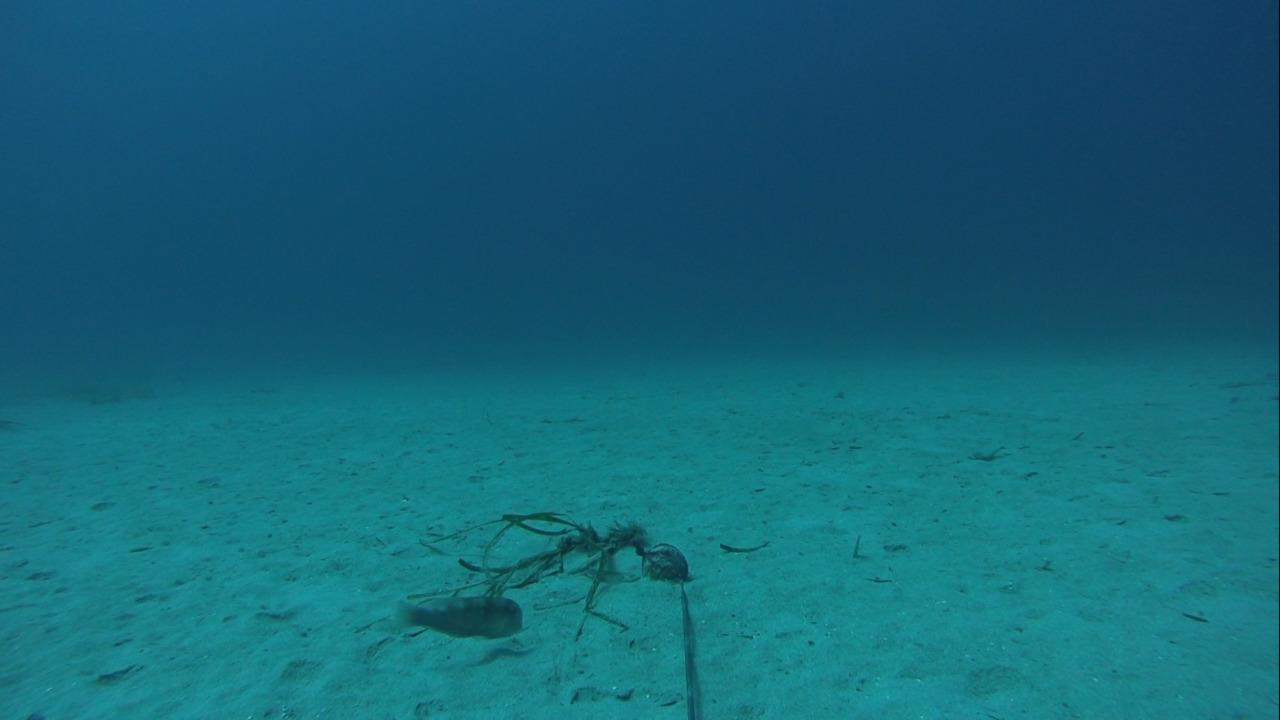raor: (393, 588, 529, 643)
